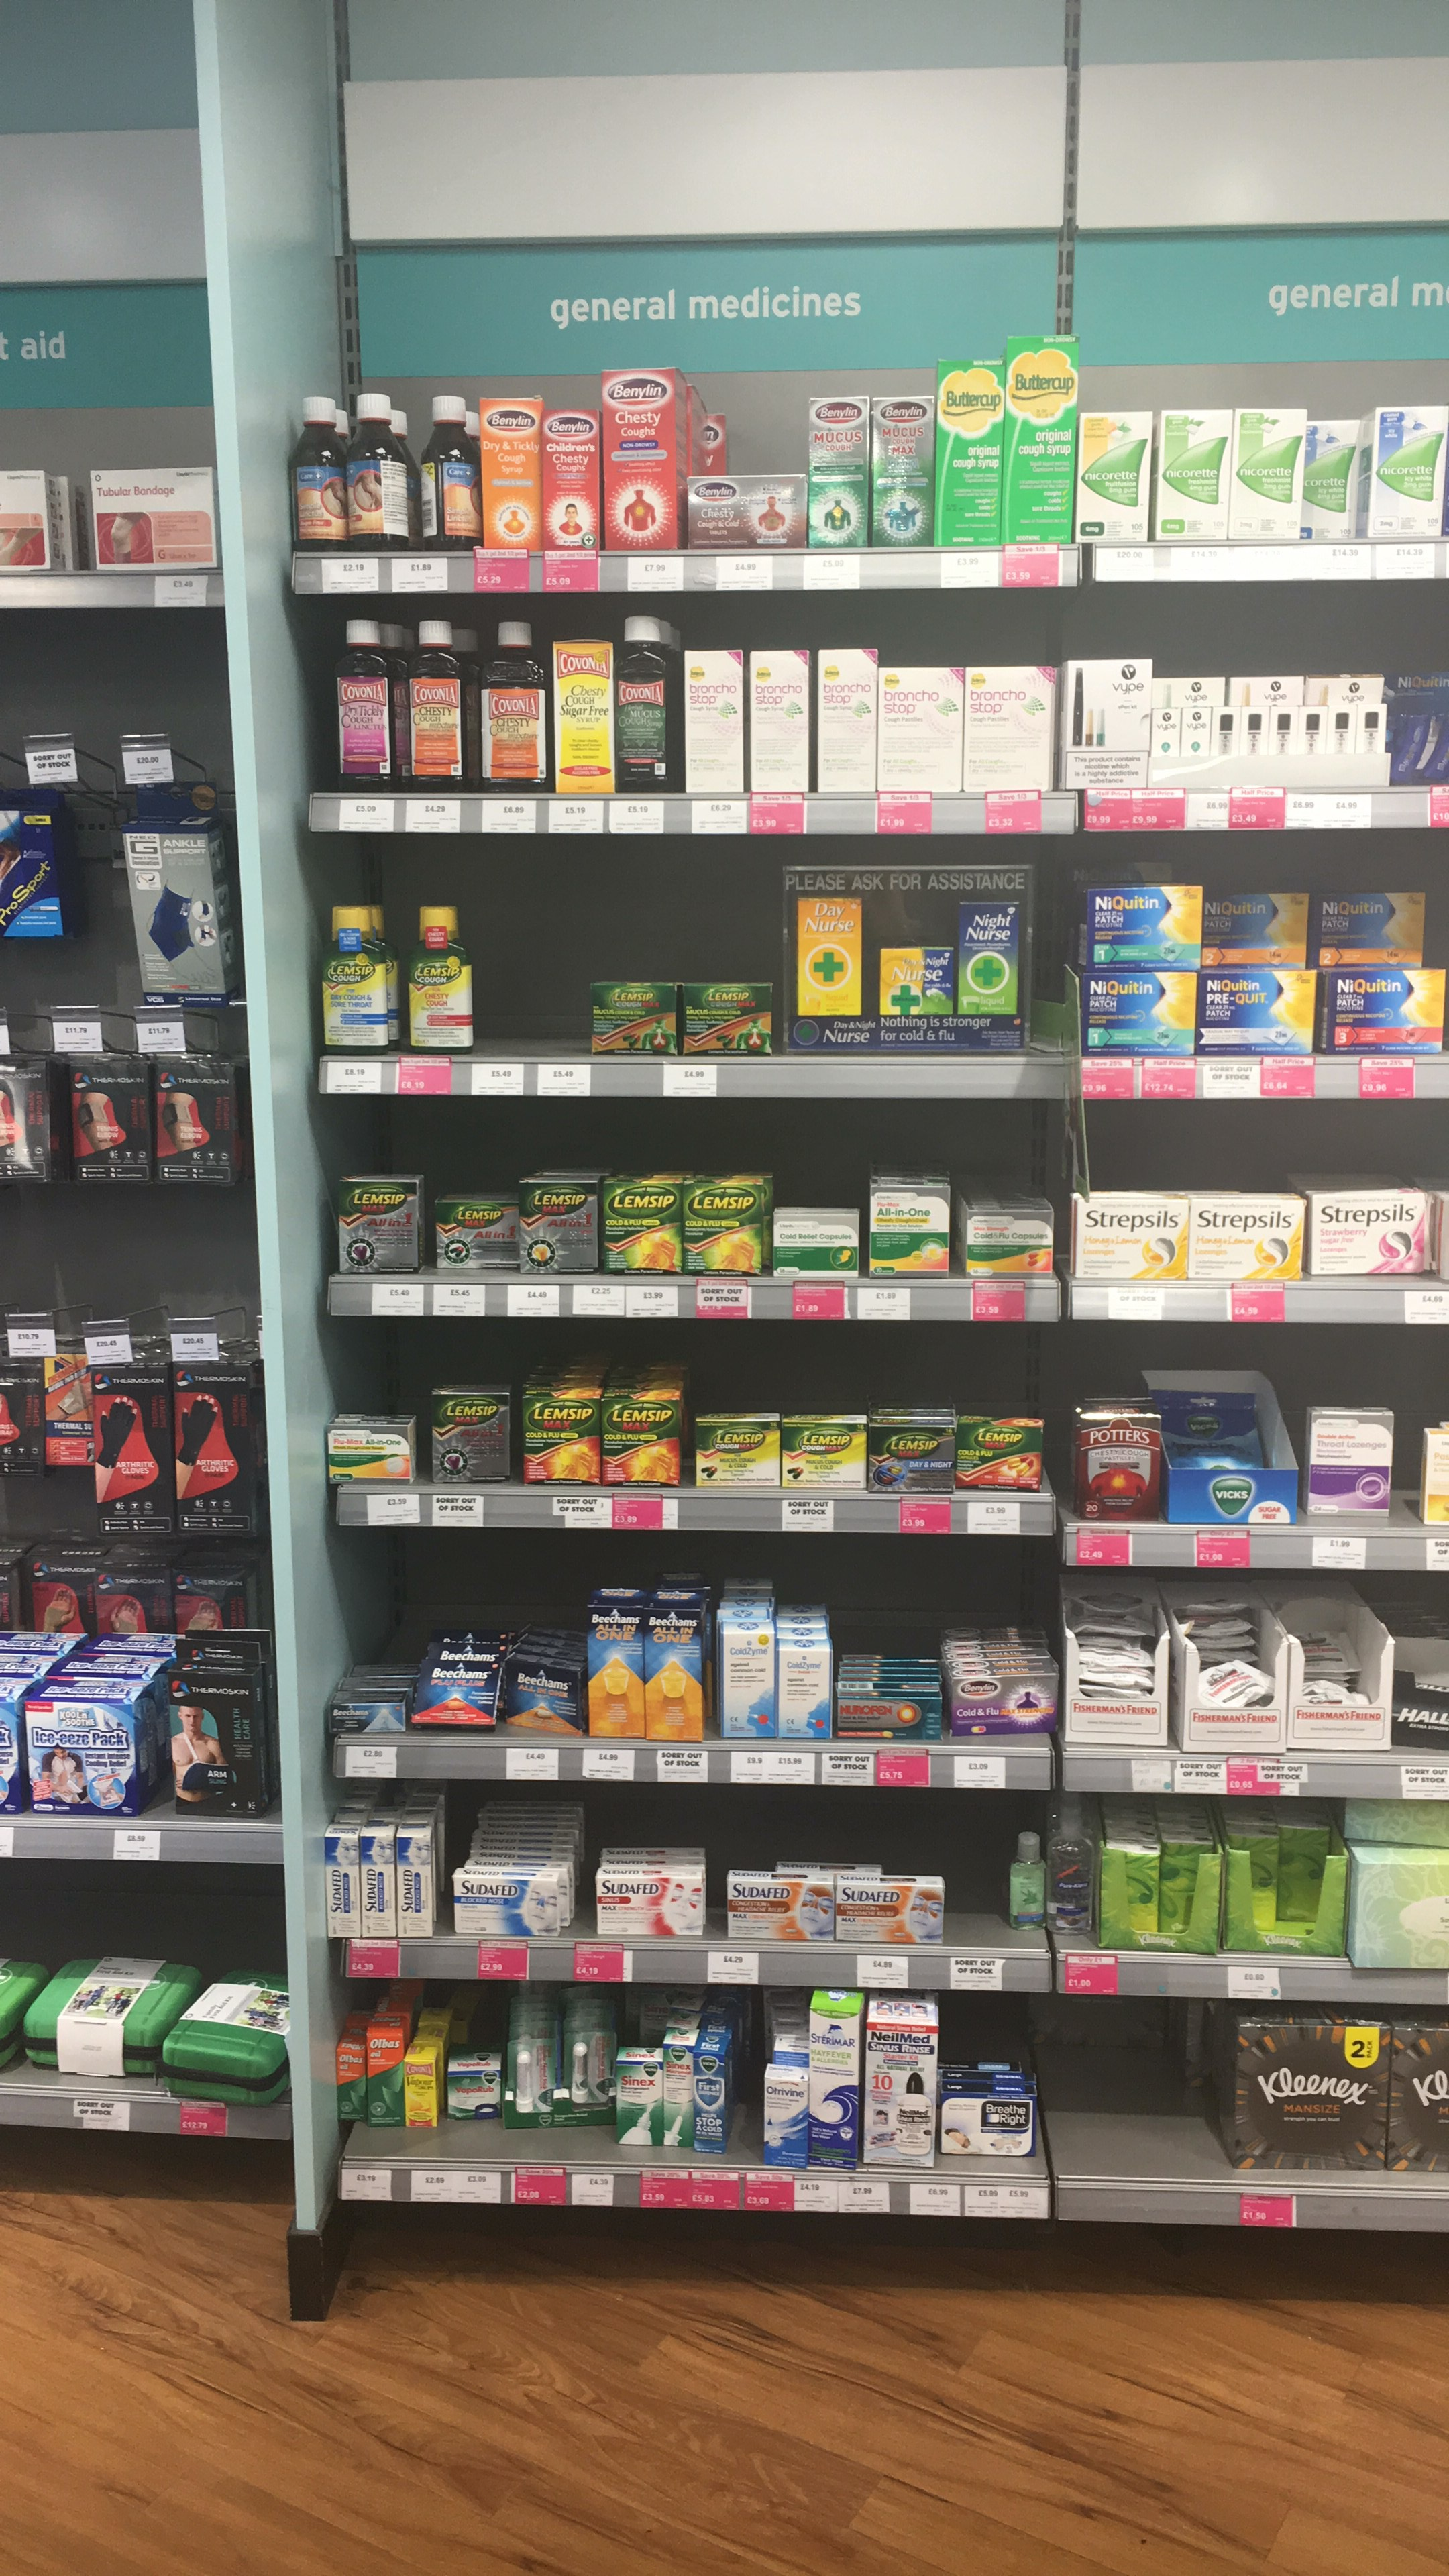product: (122, 784, 232, 1008), (1233, 2015, 1382, 2171), (1162, 1378, 1284, 1523), (1000, 334, 1072, 543), (175, 1361, 257, 1537), (168, 1670, 264, 1819), (23, 1698, 140, 1815), (605, 366, 676, 554), (787, 893, 872, 1049), (94, 1366, 172, 1536), (88, 469, 214, 568), (333, 616, 403, 791), (1067, 1628, 1171, 1744), (479, 616, 547, 796), (936, 357, 1000, 545), (403, 890, 476, 1054), (1346, 1856, 1449, 1969), (1292, 1631, 1392, 1746), (1184, 1637, 1286, 1748), (0, 789, 76, 938), (410, 617, 474, 791), (322, 902, 395, 1054), (149, 1051, 232, 1184), (954, 901, 1026, 1051), (1201, 970, 1318, 1062), (966, 667, 1053, 791), (1327, 966, 1445, 1056), (1069, 1405, 1159, 1523), (550, 637, 617, 794), (1302, 1407, 1396, 1518), (1079, 970, 1196, 1058), (881, 667, 964, 791), (1313, 1189, 1431, 1276), (1065, 658, 1146, 784), (865, 2019, 932, 2167), (67, 1054, 142, 1187), (621, 612, 676, 791), (1079, 410, 1152, 545), (416, 389, 476, 548), (1159, 407, 1230, 541), (156, 2029, 272, 2111), (349, 387, 407, 550), (1369, 407, 1442, 538), (25, 2003, 149, 2079), (748, 646, 812, 793), (872, 395, 932, 548), (1086, 886, 1200, 968), (1074, 1200, 1189, 1279), (1235, 409, 1306, 538), (288, 391, 345, 552), (814, 646, 876, 793), (809, 396, 869, 547), (683, 648, 743, 796), (1392, 2022, 1449, 2178), (1194, 1200, 1306, 1277), (686, 474, 803, 548), (333, 1178, 421, 1276), (876, 939, 952, 1051), (481, 396, 536, 550), (1315, 886, 1424, 962), (541, 407, 598, 554), (1205, 886, 1309, 966), (810, 2006, 860, 2173), (648, 1608, 706, 1743), (587, 1603, 644, 1739), (428, 1385, 510, 1479), (683, 1180, 763, 1276), (520, 1178, 600, 1274), (0, 1049, 55, 1185), (679, 980, 771, 1060), (872, 1184, 950, 1277), (936, 2084, 1035, 2157), (950, 1670, 1060, 1736), (602, 1180, 678, 1274), (1159, 1838, 1221, 1953), (587, 978, 676, 1058), (418, 1654, 506, 1734), (602, 1399, 678, 1488), (520, 1396, 596, 1484), (453, 1875, 561, 1937), (835, 1882, 945, 1943), (957, 1417, 1044, 1491), (1392, 671, 1449, 784), (1309, 421, 1364, 538), (596, 1875, 706, 1934), (966, 1208, 1056, 1279), (1224, 1829, 1279, 1943), (508, 1654, 582, 1737), (1049, 1806, 1095, 1937), (722, 1628, 775, 1739), (770, 1212, 860, 1277), (320, 1422, 412, 1486), (432, 1200, 513, 1270), (727, 1882, 832, 1937), (1341, 1796, 1447, 1849), (869, 1422, 952, 1490), (782, 1421, 865, 1488), (697, 1419, 778, 1486), (1104, 1845, 1157, 1946), (94, 1566, 170, 1633), (0, 1359, 42, 1476), (44, 1353, 87, 1470), (28, 1553, 90, 1633), (172, 1569, 253, 1629), (839, 1695, 945, 1741), (777, 1649, 830, 1736), (1283, 1826, 1330, 1921), (763, 2068, 805, 2173), (508, 2040, 557, 2128), (566, 2035, 612, 2123), (617, 2056, 660, 2148), (1010, 1826, 1044, 1934), (396, 1831, 430, 1939), (357, 1831, 391, 1939), (322, 1833, 356, 1936), (694, 2051, 725, 2153), (366, 2035, 400, 2123), (665, 2045, 692, 2148), (448, 2068, 501, 2118), (324, 1702, 405, 1734), (1152, 708, 1180, 791), (1242, 706, 1269, 789), (1212, 706, 1238, 789), (1270, 706, 1297, 789), (1182, 708, 1208, 789), (1359, 704, 1385, 786), (1300, 706, 1327, 787), (1230, 676, 1306, 704), (1330, 704, 1355, 787), (1154, 676, 1226, 704), (403, 2058, 432, 2127), (1311, 676, 1387, 701), (336, 2051, 361, 2120)
